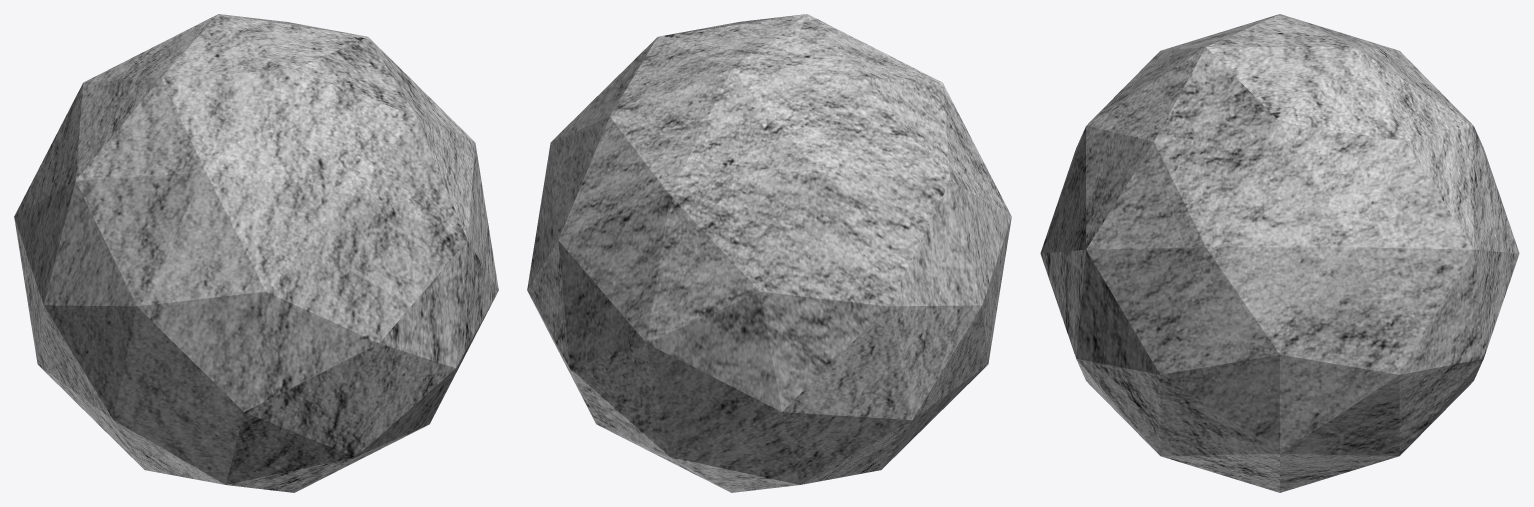
Rendered from rock-draco.gltf.
The picture shows the model from 3 angles, left to right: view 1: azimuth 30°, elevation 25°; view 2: azimuth 150°, elevation 25°; view 3: azimuth 270°, elevation 25°; orthographic projection. The views are drawn at different scales.
Parts seen in each view (by area): view 1: Debris002; view 2: Debris002; view 3: Debris002.
Part boxes in pixels (box(x1,y1,x2,y2)): Debris002: box(14, 14, 498, 492); Debris002: box(527, 14, 1011, 492); Debris002: box(1040, 14, 1519, 492).
Size of the model in its own units: 0.1129 by 0.1074 by 0.1129.
Materials: 1 (1 with a texture image).
